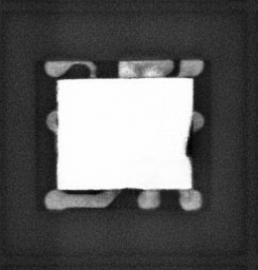DIE_BROKEN: (184, 121, 194, 161)
